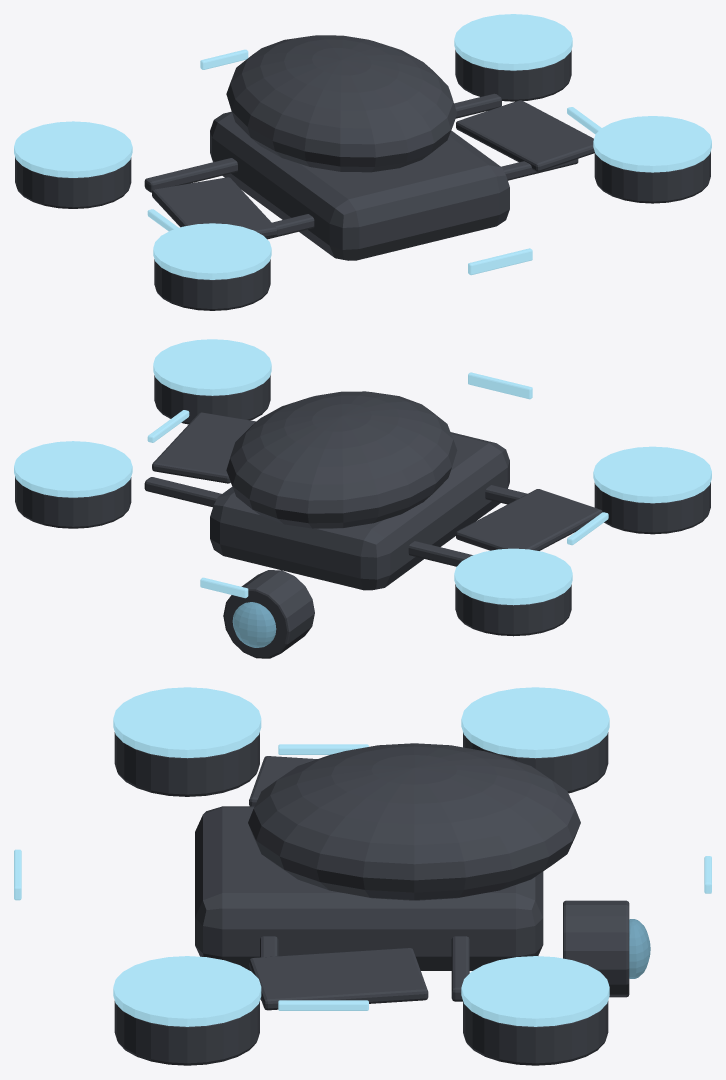
File: drone-patrol.glb
3 views of the same model, one above another, from view 1: azimuth 30°, elevation 25°; view 2: azimuth 150°, elevation 25°; view 3: azimuth 270°, elevation 25° (orthographic). The views are drawn at different scales.
Parts seen in each view (by area): view 1: DR_pat_Body, DR_pat_rim.002, DR_pat_rim.001, DR_pat_rim.003, DR_pat_rim, DR_pat_duct.002, DR_pat_duct, DR_pat_duct.003, DR_pat_duct.001, DR_pat_strut, DR_pat_strut.001, DR_pat_strut.002 (+1 smaller); view 2: DR_pat_Body, DR_pat_rim.001, DR_pat_rim.003, DR_pat_rim.002, DR_pat_rim, DR_pat_duct.001, DR_pat_duct, DR_pat_duct.002, DR_pat_duct.003, DR_pat_strut.001, DR_pat_strut, DR_pat_strut.002; view 3: DR_pat_Body, DR_pat_rim.003, DR_pat_rim.001, DR_pat_rim, DR_pat_rim.002, DR_pat_duct.002, DR_pat_duct.001, DR_pat_duct.003, DR_pat_duct, DR_pat_strut.001.
Part boxes in pixels (x1,y1,x2,y2): DR_pat_Body: (147,35,601,275); DR_pat_rim.002: (153,223,271,279); DR_pat_rim.001: (454,14,572,70); DR_pat_rim.003: (593,116,711,172); DR_pat_rim: (14,121,132,177); DR_pat_duct.002: (154,259,270,310); DR_pat_duct: (15,157,131,208); DR_pat_duct.003: (594,151,710,203); DR_pat_duct.001: (455,50,571,101); DR_pat_strut: (144,158,237,192); DR_pat_strut.001: (454,93,501,118); DR_pat_strut.002: (266,214,314,239); DR_pat_Body: (147,372,608,658); DR_pat_rim.001: (14,441,132,497); DR_pat_rim.003: (153,339,271,395); DR_pat_rim.002: (593,446,711,503); DR_pat_rim: (454,548,572,605); DR_pat_duct.001: (15,476,131,528); DR_pat_duct: (455,584,571,636); DR_pat_duct.002: (594,482,710,534); DR_pat_duct.003: (154,375,270,424); DR_pat_strut.001: (144,477,221,507); DR_pat_strut: (408,541,472,566); DR_pat_strut.002: (485,485,527,504); DR_pat_Body: (14,743,711,1010); DR_pat_rim.003: (113,956,261,1026); DR_pat_rim.001: (461,956,609,1026); DR_pat_rim: (461,687,609,758); DR_pat_rim.002: (113,687,261,758); DR_pat_duct.002: (114,732,259,796); DR_pat_duct.001: (463,1001,608,1065); DR_pat_duct.003: (114,1001,259,1065); DR_pat_duct: (463,732,608,793); DR_pat_strut.001: (451,936,469,1001).
Size of the model in its own units: 2.59 by 0.82 by 2.31.
